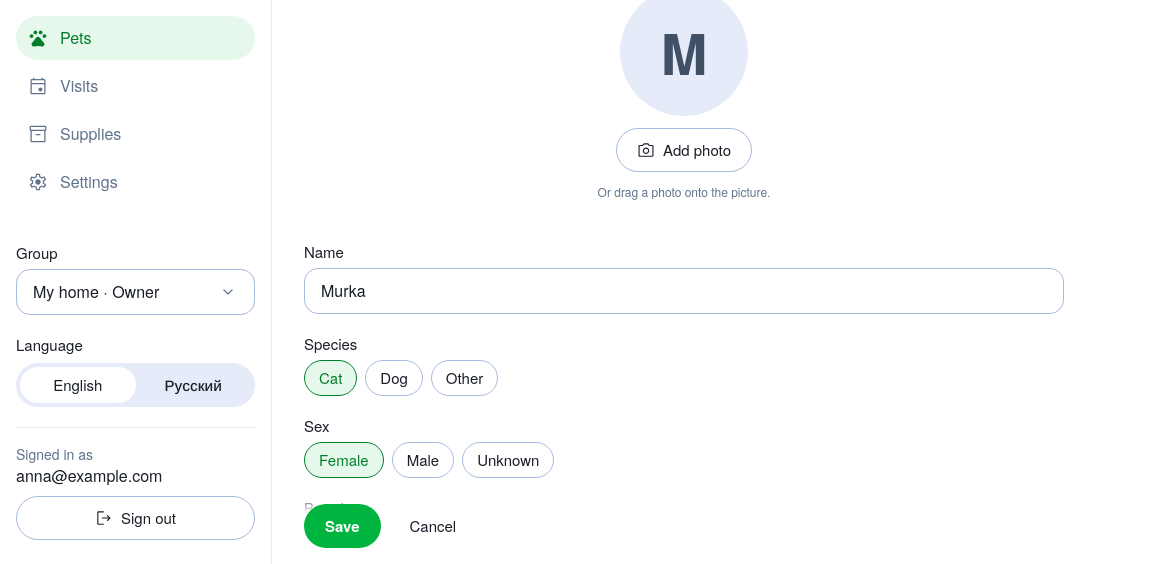
Scenario: the pet form › shows the server's refusals under their fields, the microchip's too
The width and height of the screenshot is (1152, 564).
Expected: the field labelled "Name" holds "Murka", [304,268,1064,314]
Click the button "Save" at coordinates (342, 526), box [304,504,380,548]
(page scrolled)
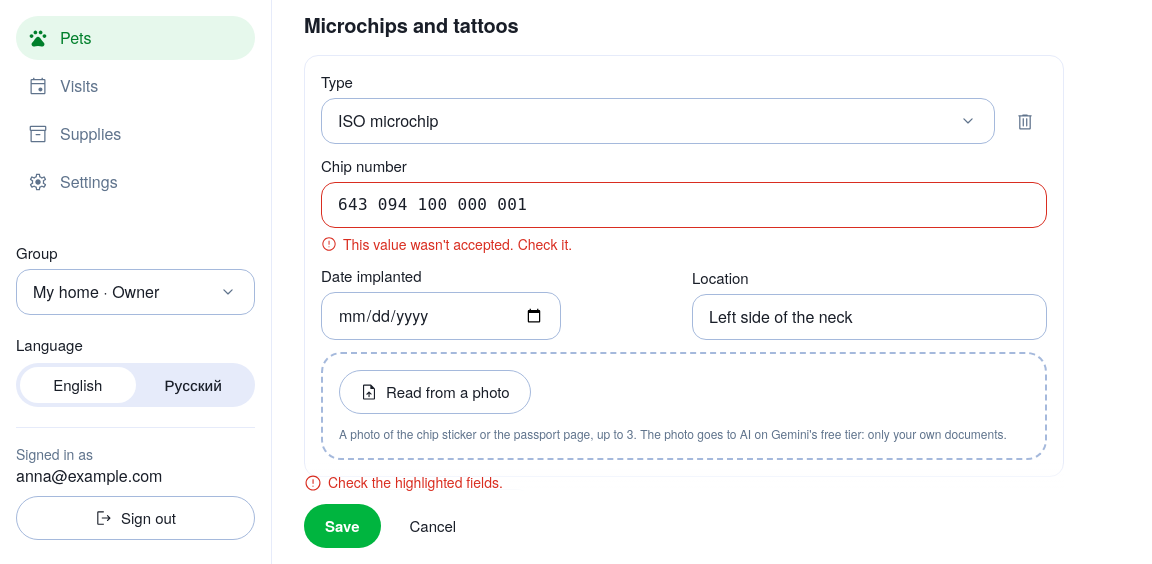
Expected: the text "Check the highlighted fields." is shown, [304,472,503,492]
Expected: the text "This value wasn't accepted. Check it." is shown 2 times
